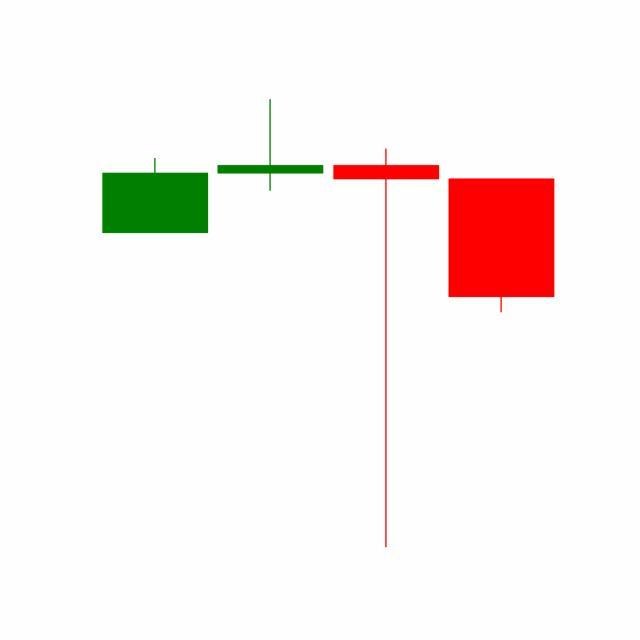Spinning Top: (329, 144, 445, 552)
